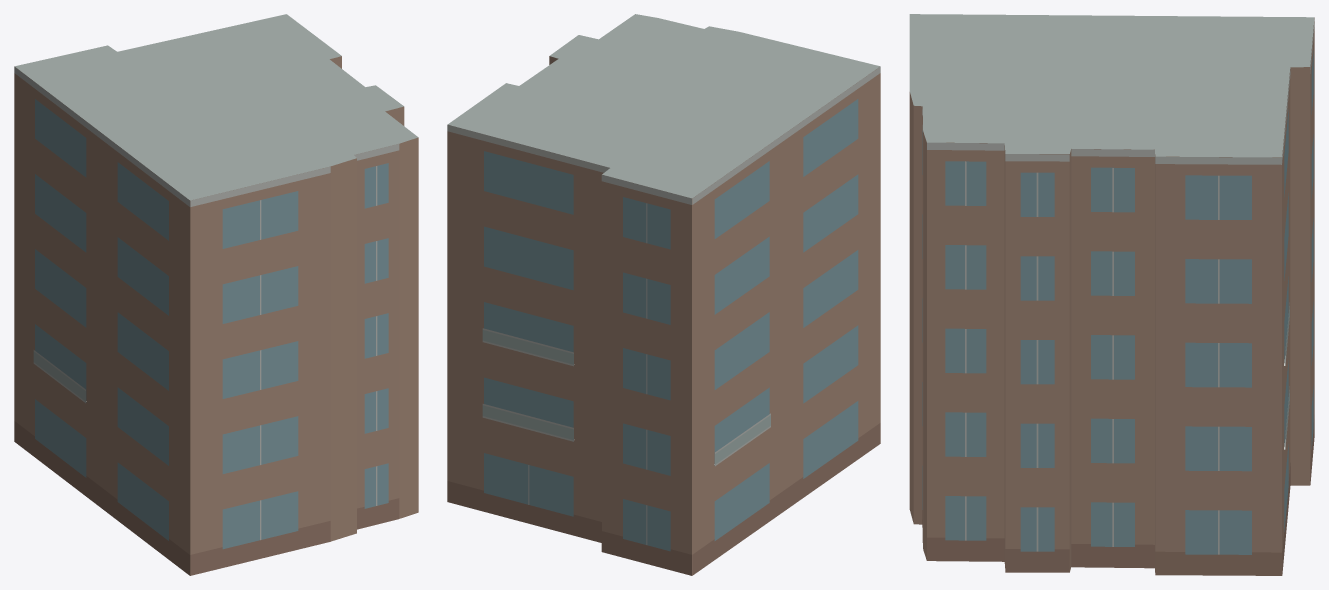
The model's file is survey-upis-32632393.glb.
3 renders of one model, left to right at view 1: azimuth 30°, elevation 25°; view 2: azimuth 150°, elevation 25°; view 3: azimuth 270°, elevation 25°, orthographic. The views are drawn at different scales.
Visible parts, largest first — view 1: survey-upis-32632393.tmp; view 2: survey-upis-32632393.tmp; view 3: survey-upis-32632393.tmp.
Boxes of the visible parts, bbox=[...] form: survey-upis-32632393.tmp: bbox=[14, 14, 418, 575]; survey-upis-32632393.tmp: bbox=[447, 14, 880, 575]; survey-upis-32632393.tmp: bbox=[909, 14, 1314, 575].
Bounding box in the file's own units: 10.15 × 13.8 × 12.12.
